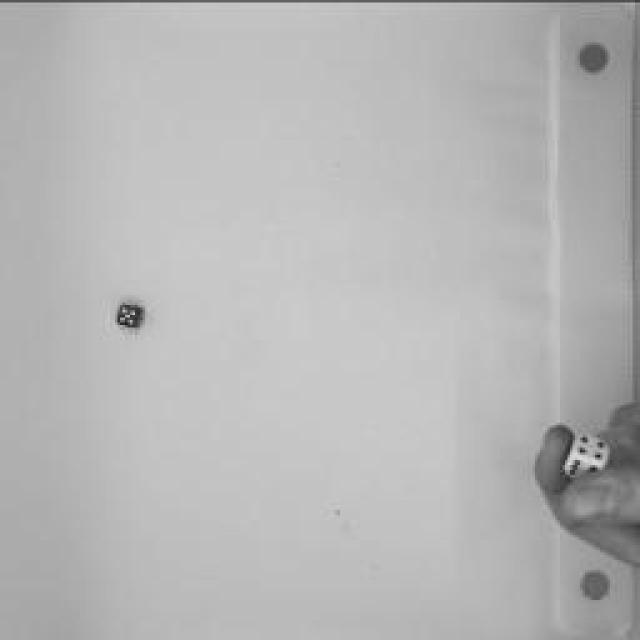dice_5: (115, 299, 147, 329)
